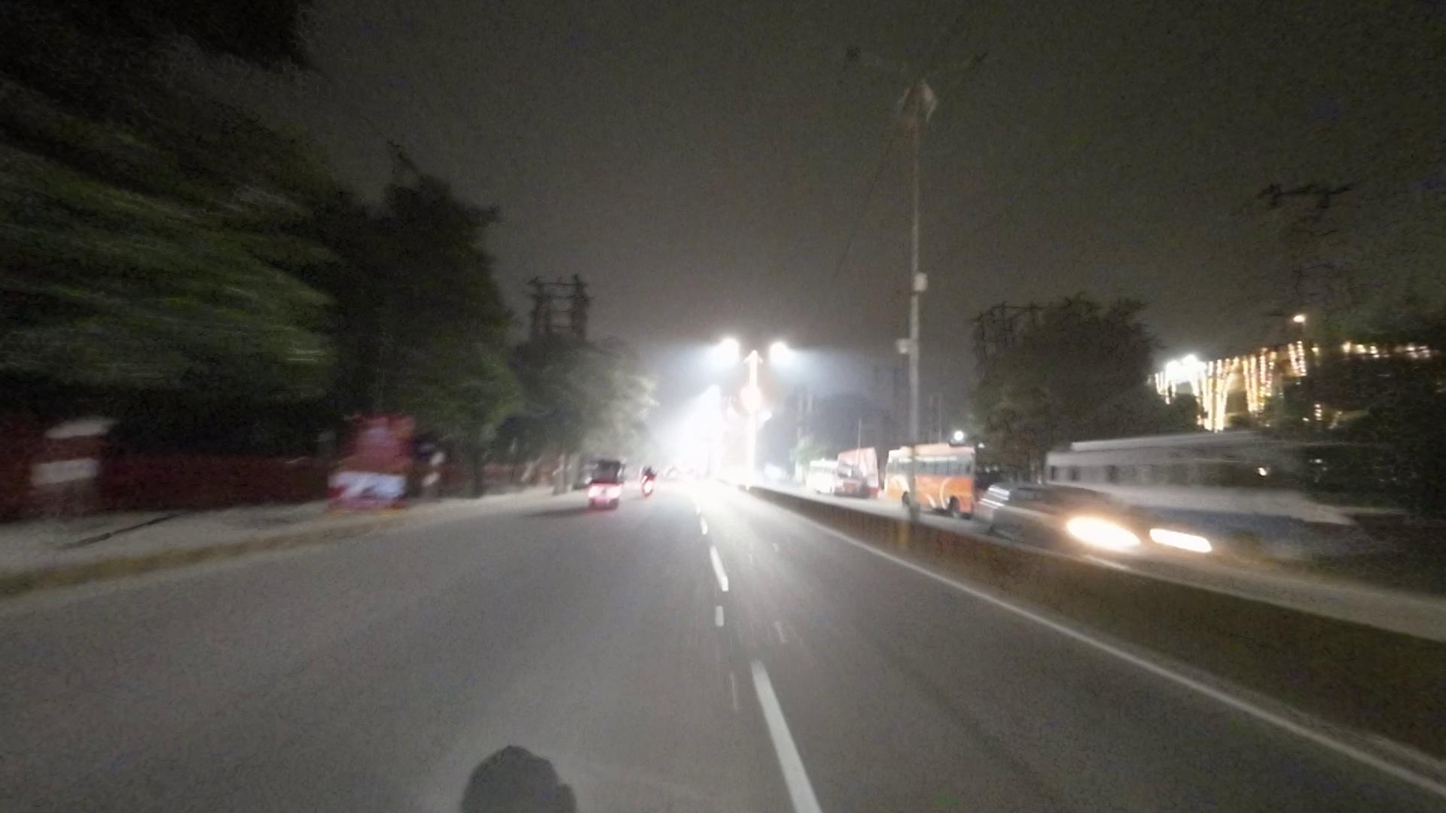streetlight: (836, 36, 910, 76), (933, 46, 1004, 76)
